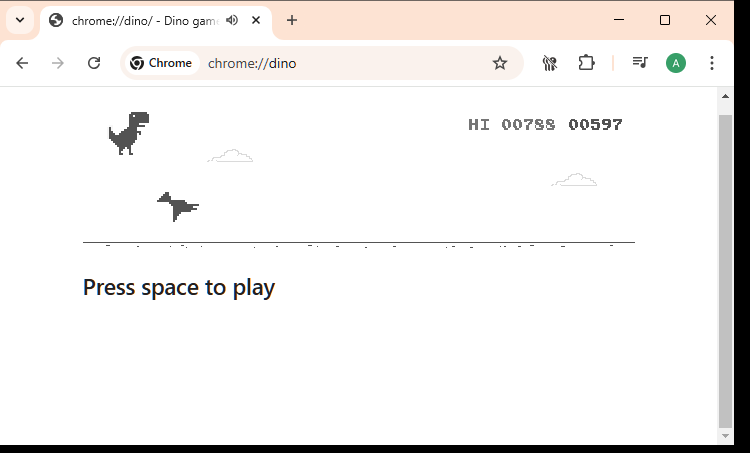bird: (156, 191, 200, 223)
dino: (108, 111, 150, 155)
